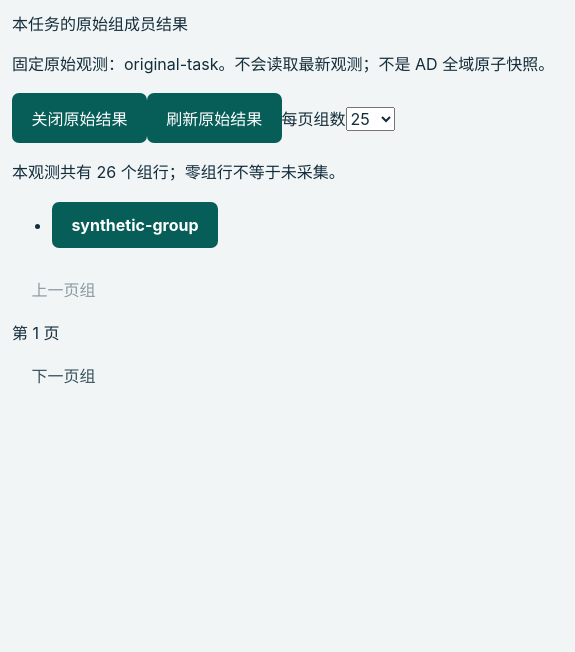
Test case: original-only v4 result presentation › distinguishes unreturned and empty original member values []
This screenshot has width=575, height=652.
Click the button "synthetic-group" at (135, 225), box top-left (52, 202), bottom-right (218, 248)
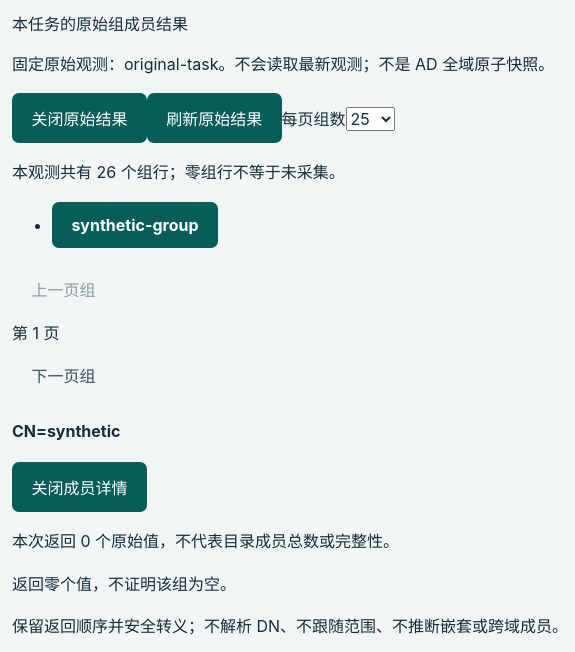
Expected: the text "返回零个值，不证明该组为空。" is shown, top-left (12, 574), bottom-right (236, 594)
